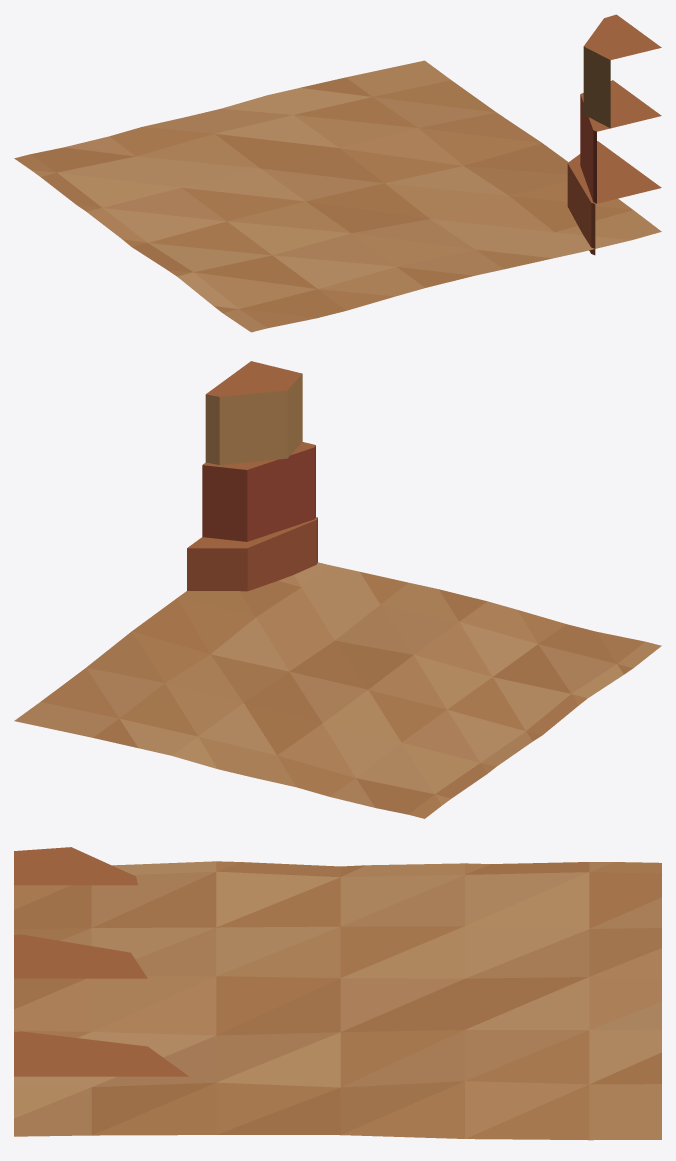
3 renders of one model, top to bottom at view 1: azimuth 30°, elevation 25°; view 2: azimuth 150°, elevation 25°; view 3: azimuth 270°, elevation 25°, orthographic. The views are drawn at different scales.
Visible parts, largest first — view 1: baked; view 2: baked; view 3: baked.
Boxes of the visible parts, x1,y1,x2,y2 form: baked: (14,14,661,332); baked: (14,361,661,818); baked: (14,847,661,1140).
Bounding box in the file's own units: 62.5 × 27.84 × 62.5.
